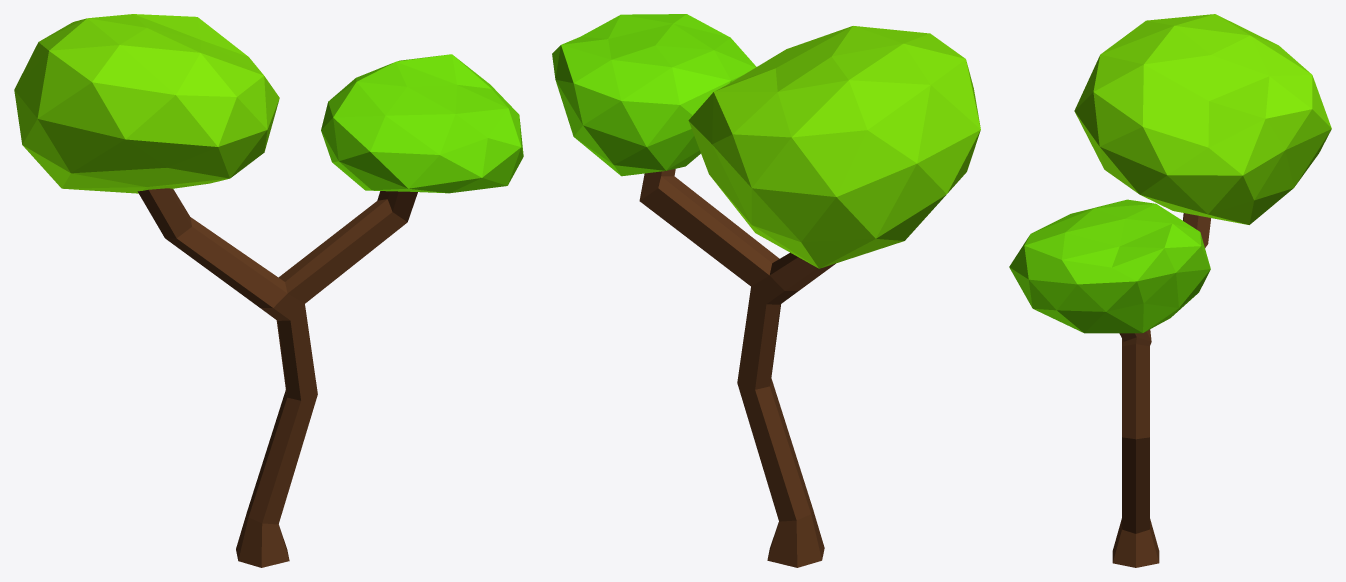
Rendered from Low_poly_tree__4.glb.
The picture shows the model from 3 angles, left to right: view 1: azimuth 30°, elevation 25°; view 2: azimuth 150°, elevation 25°; view 3: azimuth 270°, elevation 25°; orthographic projection. The views are drawn at different scales.
Visible parts, largest first — view 1: Low poly tree #4; view 2: Low poly tree #4; view 3: Low poly tree #4.
Part boxes in pixels (<box>): Low poly tree #4: <box>14,14,523,567</box>; Low poly tree #4: <box>552,14,980,567</box>; Low poly tree #4: <box>1009,14,1331,567</box>.
Size of the model in its own units: 4.34 by 5.09 by 3.12.
